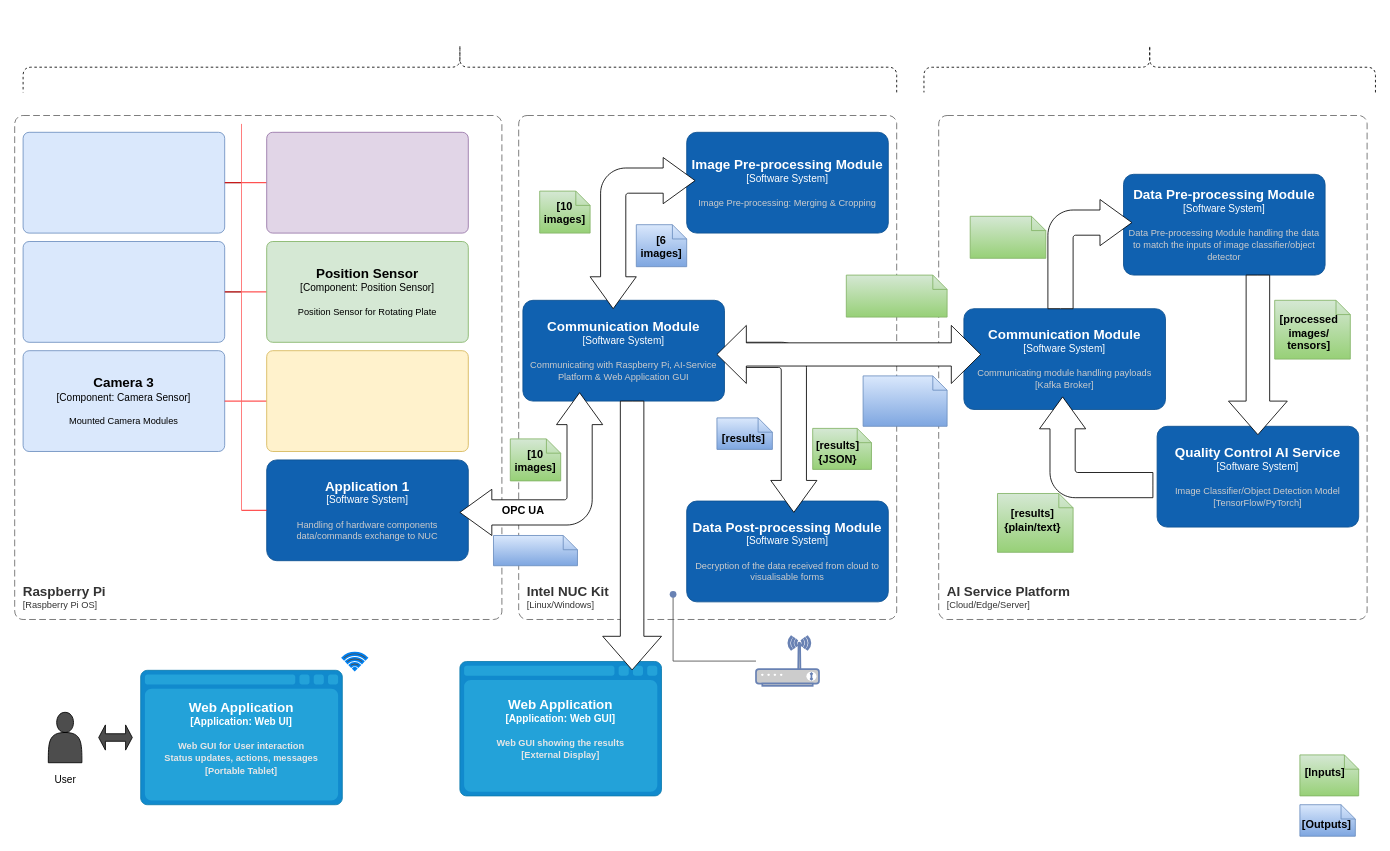
Image size: 1390x851. Some labels were removed from this diagram. Each missing label, with the centre of its shape:
"[commands]" goes at (x=535, y=550).
"[images]" goes at (x=1007, y=236).
"[images] {payload: JSON}" goes at (x=896, y=295).
"[results] {payload: JSON}" goes at (x=904, y=400).
"AIaaS Platform" goes at (x=1149, y=66).
"Camera 1 [Component: Camera Sensor] Mounted Camera Modules" goes at (x=123, y=182).
"Camera 2 [Component: Camera Sensor] Mounted Camera Modules" goes at (x=123, y=291).
"KAFKA / MQTT" goes at (x=848, y=354).
"LED Lights [Component: Lighting System] Lighting for Cameras" goes at (x=367, y=182).
"Plate-Motor [Component: Stepper Motor] Stepper Motor for Rotating Plate" goes at (x=367, y=401).
"QS4PAUL" goes at (x=459, y=66).
